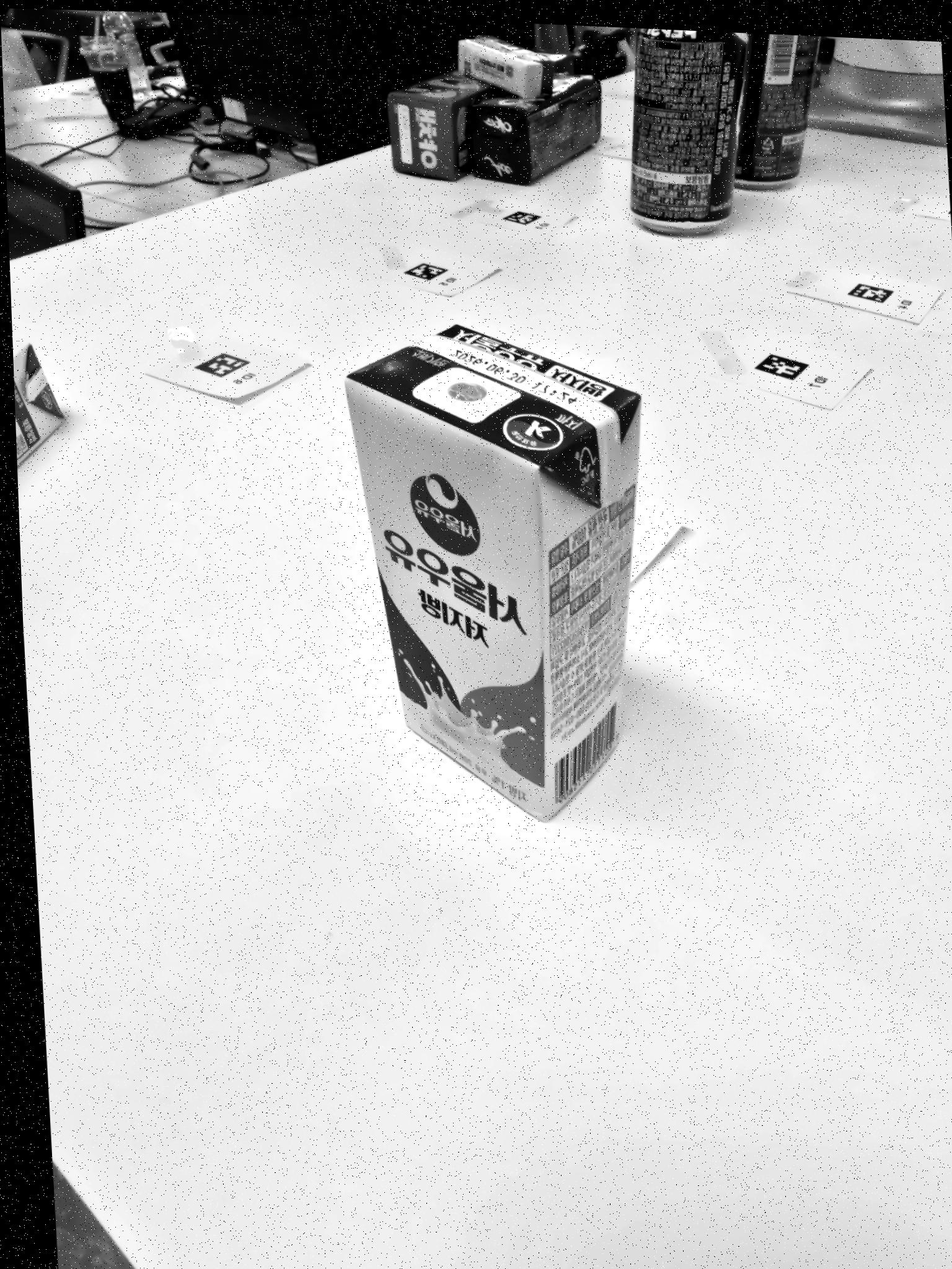milk_blue: (344, 324, 643, 820)
